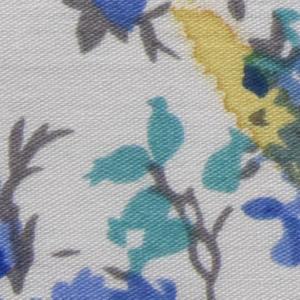Oil Stain: (169, 1, 300, 186)
